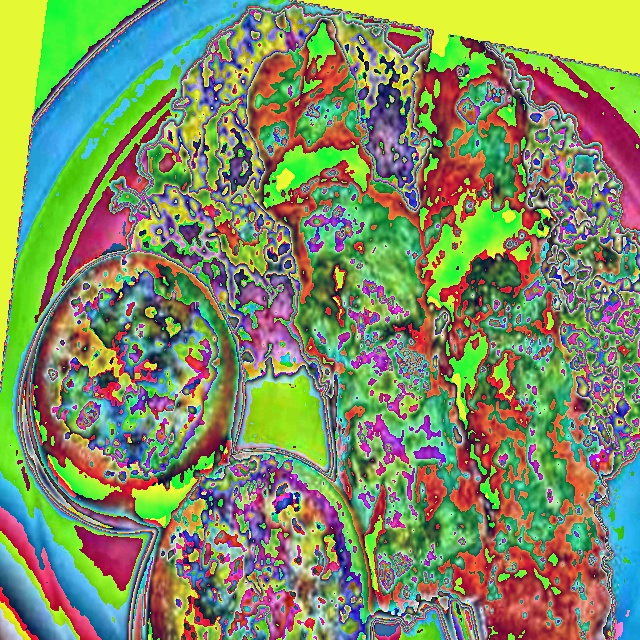background: (23, 0, 639, 640)
